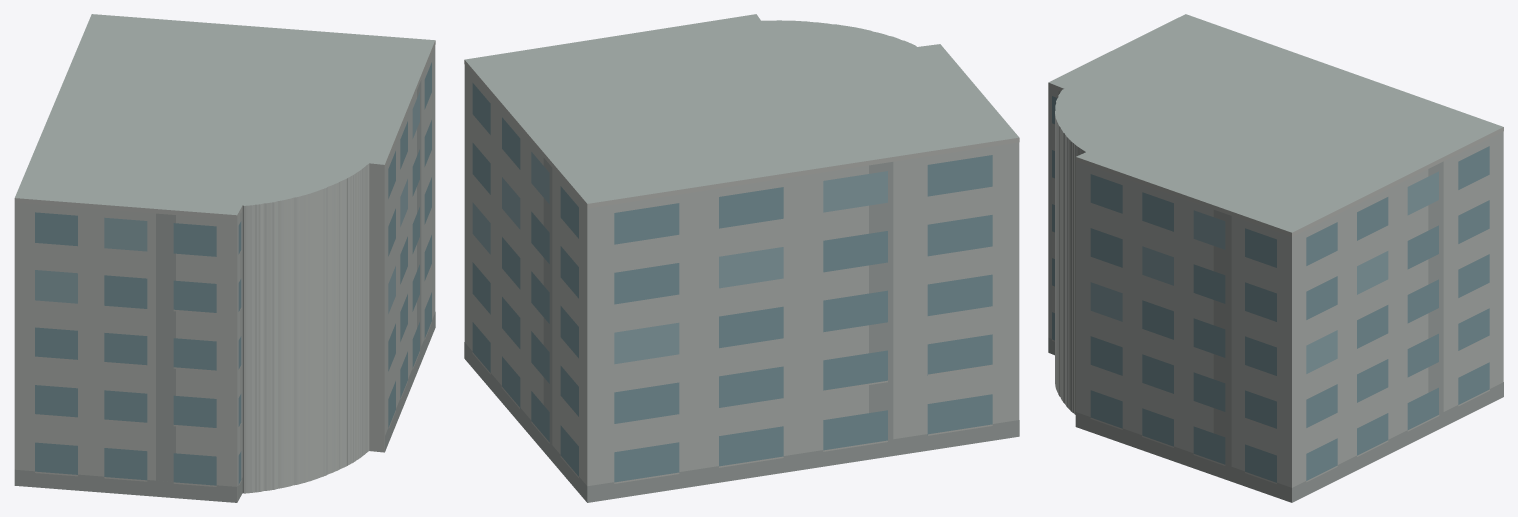
File: survey-upis-32655651.glb
3 views of the same model, side by side, from view 1: azimuth 30°, elevation 25°; view 2: azimuth 150°, elevation 25°; view 3: azimuth 270°, elevation 25° (orthographic). The views are drawn at different scales.
Parts seen in each view (by area): view 1: survey-upis-32655651.tmp; view 2: survey-upis-32655651.tmp; view 3: survey-upis-32655651.tmp.
Part boxes in pixels (x1,y1,x2,y2): survey-upis-32655651.tmp: [14, 14, 435, 502]; survey-upis-32655651.tmp: [464, 14, 1019, 502]; survey-upis-32655651.tmp: [1048, 14, 1503, 502].
Size of the model in its own units: 26.49 by 15.25 by 23.31.
